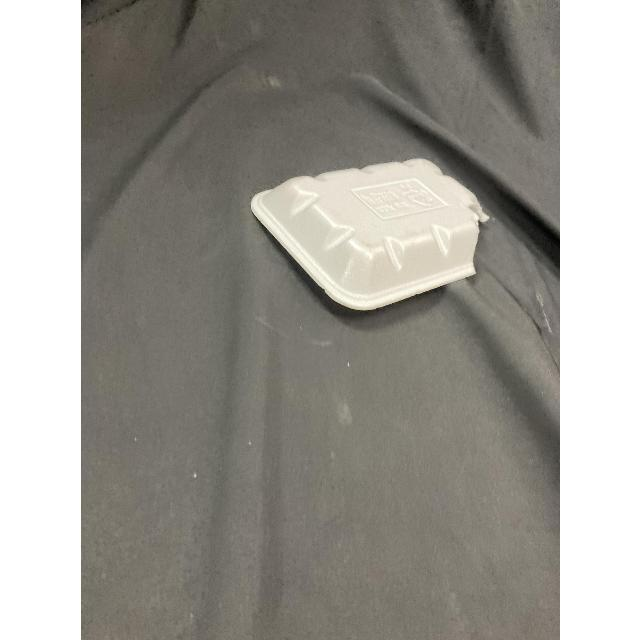Plastico descartable: (249, 159, 487, 314)
